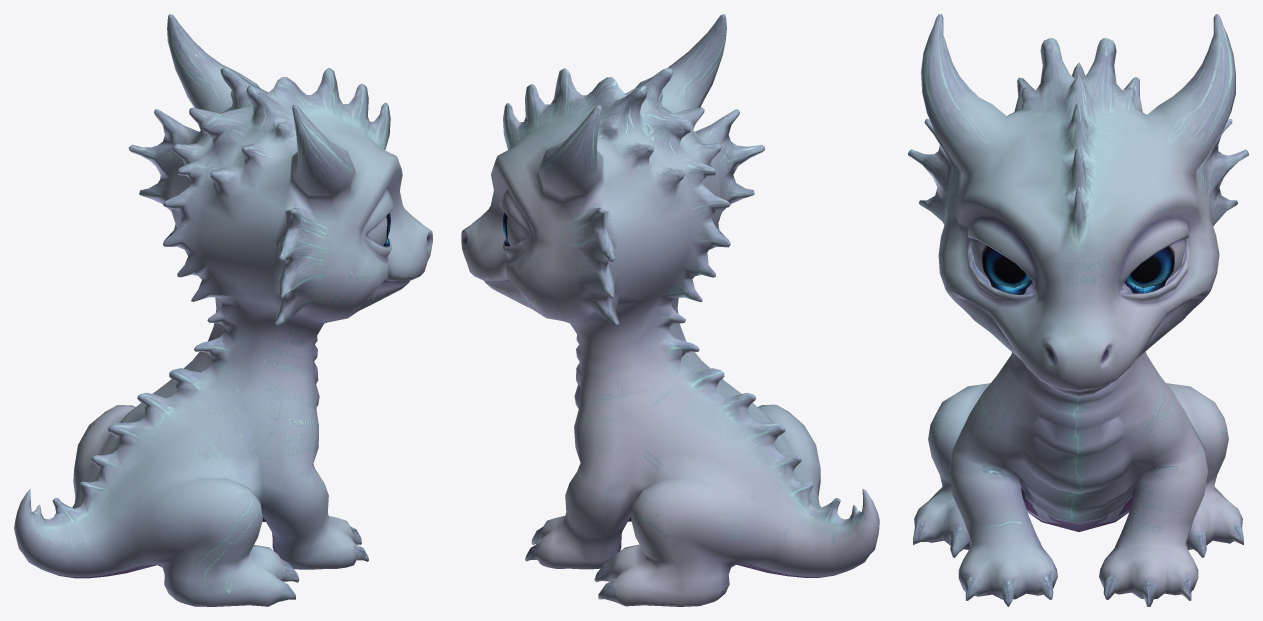
Rendered from Vortex 5.glb.
3 views of the same model, side by side, from view 1: azimuth 30°, elevation 25°; view 2: azimuth 150°, elevation 25°; view 3: azimuth 270°, elevation 25° (orthographic). The views are drawn at different scales.
Visible parts, largest first — view 1: world; view 2: world; view 3: world.
Boxes of the visible parts, x1,y1,x2,y2 form: world: (14,14,432,606); world: (461,14,879,606); world: (908,14,1248,606).
Bounding box in the file's own units: 0.877 × 0.998 × 0.5684.
1 material, 1 textured.
